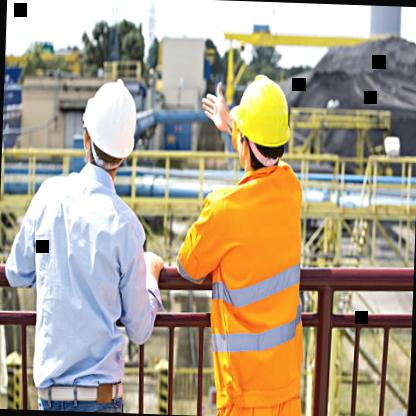helmet: (80, 72, 147, 190), (222, 69, 294, 176)
